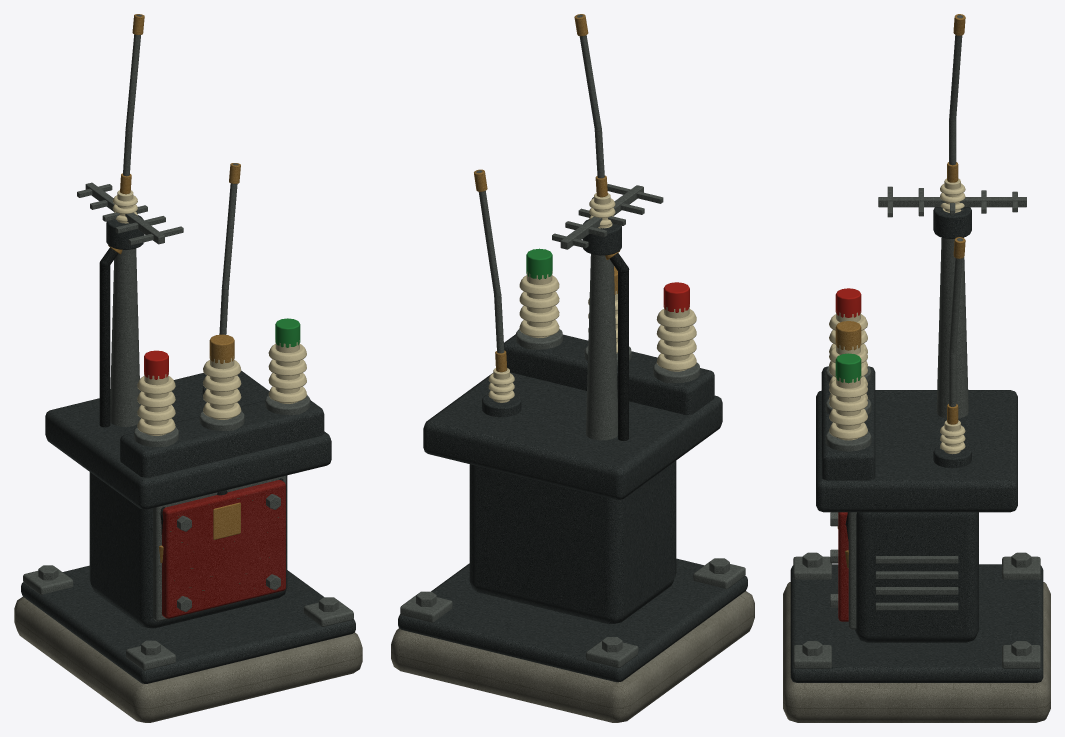
Rendered from comms-1.glb.
3 views of the same model, side by side, from view 1: azimuth 30°, elevation 25°; view 2: azimuth 150°, elevation 25°; view 3: azimuth 270°, elevation 25° (orthographic). The views are drawn at different scales.
Parts seen in each view (by area): view 1: Cast foundation edge, Ferrocrete ground-contact plinth, Radio equipment load deck, Red armored service cover, Armored electrical cabinet, Load-bearing power and circuit crossarm, Braced radio mast, Radio coax to equipment cabinet segment 1, Red armored service cover steel lip, Stamped machine-purity inspection plaque, Vox whip and coaxial seat segment 1.001, Directional Yagi boom (+11 smaller); view 2: Armored electrical cabinet, Radio equipment load deck, Cast foundation edge, Ferrocrete ground-contact plinth, Load-bearing power and circuit crossarm, Braced radio mast, Radio coax to equipment cabinet segment 1, Whip RF base, Seated foundation anchor plate.001, Directional Yagi boom, Vox whip and coaxial seat segment 1.001, Seated foundation anchor plate.003 (+9 smaller); view 3: Radio equipment load deck, Cast foundation edge, Armored electrical cabinet, Ferrocrete ground-contact plinth, Braced radio mast, Load-bearing power and circuit crossarm, Directional Yagi boom, Red armored service cover, Whip RF base, Red armored service cover steel lip, Vox whip and coaxial seat segment 1.001, Recessed heat disposal louvre (+15 smaller).
Part boxes in pixels (box(x1,y1,x2,y2)): Cast foundation edge: box(21, 565, 355, 683); Ferrocrete ground-contact plinth: box(14, 597, 362, 722); Radio equipment load deck: box(45, 371, 331, 509); Red armored service cover: box(162, 480, 285, 618); Armored electrical cabinet: box(89, 472, 287, 628); Load-bearing power and circuit crossarm: box(120, 400, 324, 477); Braced radio mast: box(110, 248, 140, 426); Radio coax to equipment cabinet segment 1: box(99, 265, 110, 427); Red armored service cover steel lip: box(153, 475, 285, 621); Stamped machine-purity inspection plaque: box(213, 502, 240, 539); Vox whip and coaxial seat segment 1.001: box(222, 163, 238, 288); Directional Yagi boom: box(85, 182, 164, 244); Armored electrical cabinet: box(469, 461, 676, 624); Radio equipment load deck: box(423, 372, 722, 499); Cast foundation edge: box(398, 558, 747, 682); Ferrocrete ground-contact plinth: box(391, 591, 754, 722); Load-bearing power and circuit crossarm: box(504, 334, 714, 414); Braced radio mast: box(586, 254, 617, 440); Radio coax to equipment cabinet segment 1: box(618, 271, 628, 440); Whip RF base: box(582, 219, 621, 255); Seated foundation anchor plate.001: box(586, 640, 638, 668); Directional Yagi boom: box(560, 185, 643, 249); Vox whip and coaxial seat segment 1.001: box(476, 170, 500, 295); Seated foundation anchor plate.003: box(400, 595, 452, 622); Radio equipment load deck: box(816, 390, 1017, 512); Cast foundation edge: box(790, 564, 1043, 682); Armored electrical cabinet: box(855, 512, 978, 642); Ferrocrete ground-contact plinth: box(783, 582, 1050, 722); Braced radio mast: box(936, 237, 968, 418); Load-bearing power and circuit crossarm: box(821, 366, 875, 480); Directional Yagi boom: box(878, 197, 1026, 207); Red armored service cover: box(838, 512, 848, 621); Whip RF base: box(933, 207, 971, 239); Red armored service cover steel lip: box(848, 512, 856, 629); Vox whip and coaxial seat segment 1.001: box(949, 238, 962, 353); Recessed heat disposal louvre: box(875, 602, 958, 610).
Size of the model in its own units: 0.9 by 2.38 by 0.9.
10 materials, 7 textured.
